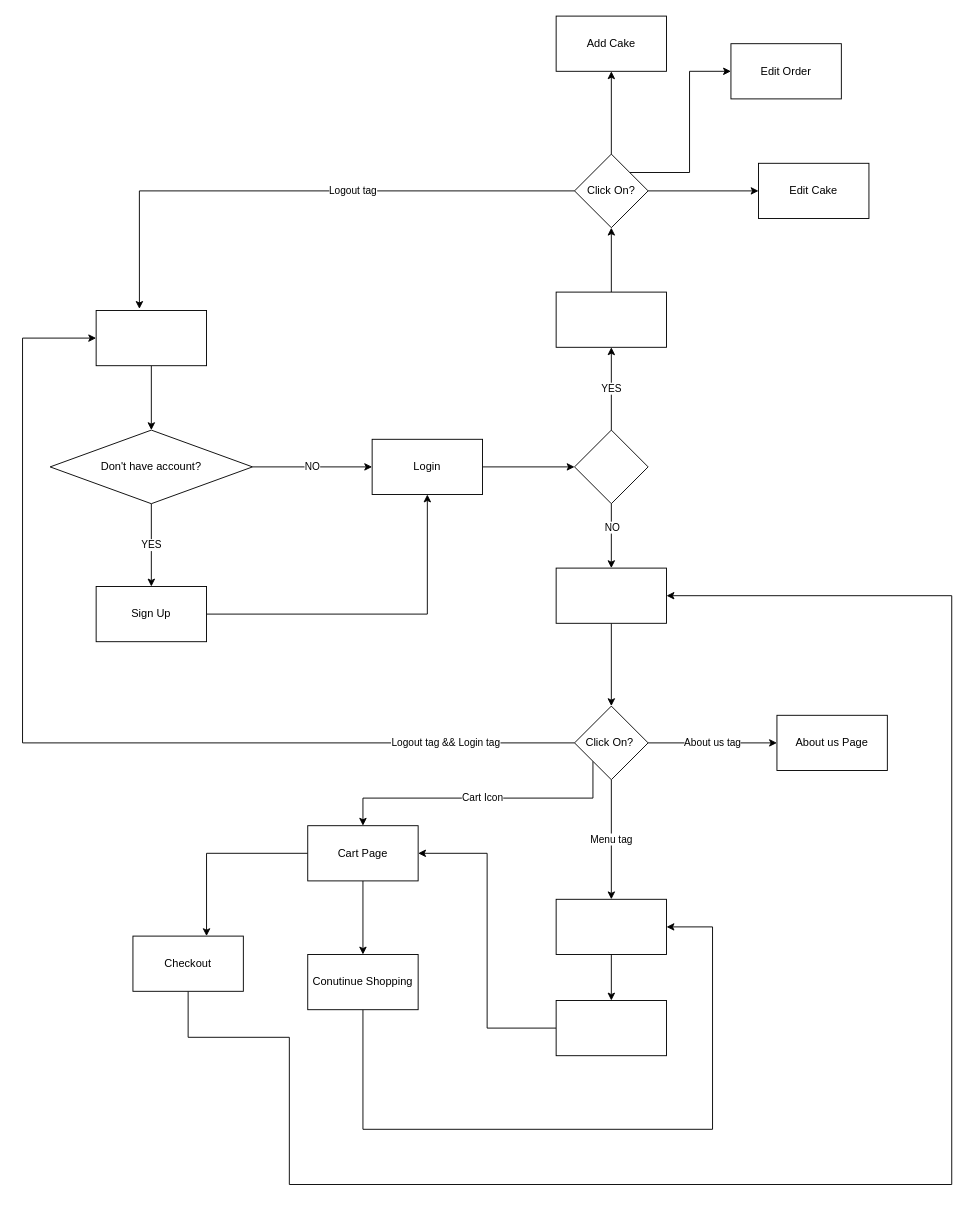
Some shapes in this 975 by 1208 pixel diagram are drawn without their labels. Each missing label, with the centre of its shape:
"Add to cart" belongs at (611,1028).
"Admin Page" belongs at (611,319).
"Home Page (Welcome page)" belongs at (611,595).
"Is admin?" belongs at (611,466).
"Login page" belongs at (151,338).
"Menu Page" belongs at (611,926).
